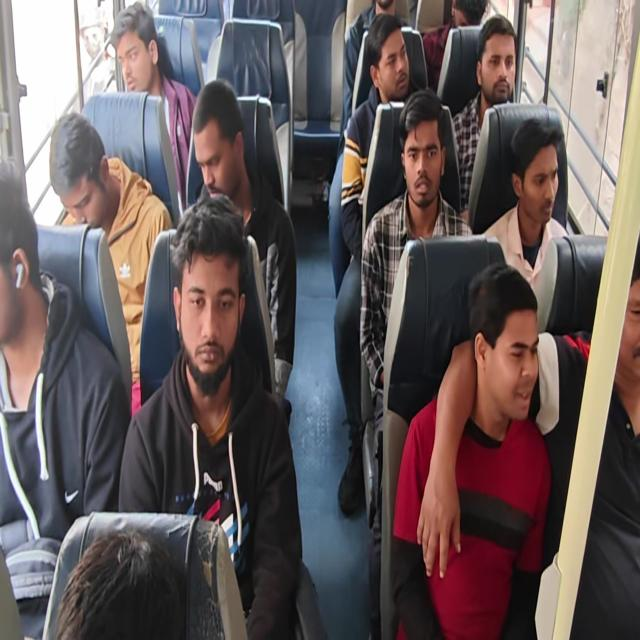person: (56, 520, 193, 640), (166, 205, 245, 386), (469, 253, 536, 426), (185, 68, 252, 210), (1, 144, 41, 378), (42, 99, 111, 229), (394, 88, 444, 222), (106, 2, 168, 106), (511, 113, 562, 227), (612, 228, 640, 419), (358, 8, 413, 98), (477, 9, 516, 112), (449, 3, 488, 23), (371, 0, 403, 19)
